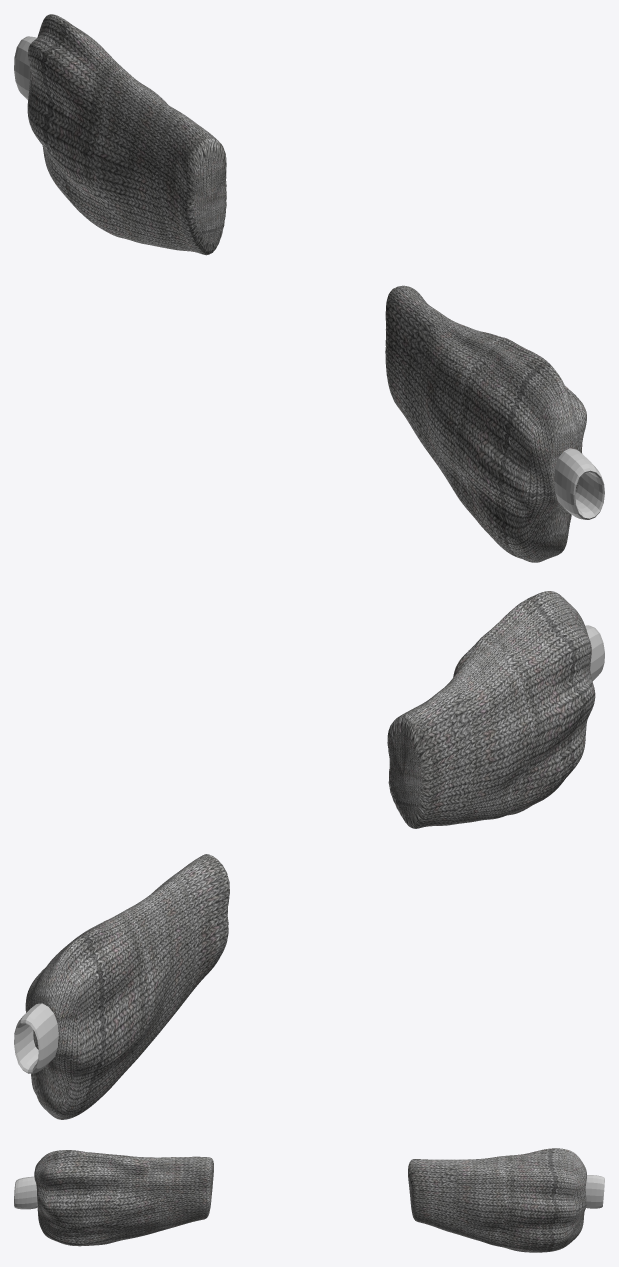
File: bishop-sleeve-long.fbx
3 views of the same model, one above another, from view 1: azimuth 30°, elevation 25°; view 2: azimuth 150°, elevation 25°; view 3: azimuth 270°, elevation 25° (orthographic). The views are drawn at different scales.
Parts seen in each view (by area): view 1: Cylinder.001, Cylinder, Cube.006, Cube.003; view 2: Cylinder.001, Cylinder, Cube.003; view 3: Cylinder, Cylinder.001, Cube.006, Cube.003.
Part boxes in pixels (x1,y1,x2,y2): Cylinder.001: (385,285,586,562); Cylinder: (27,14,226,255); Cube.006: (554,448,604,519); Cube.003: (14,36,36,99); Cylinder.001: (387,591,595,828); Cylinder: (25,854,229,1119); Cube.003: (14,1003,58,1073); Cylinder: (408,1148,586,1252); Cylinder.001: (34,1150,213,1246); Cube.006: (14,1176,37,1209); Cube.003: (585,1175,604,1208).
Size of the model in its own units: 40.25 by 83.15 by 443.
